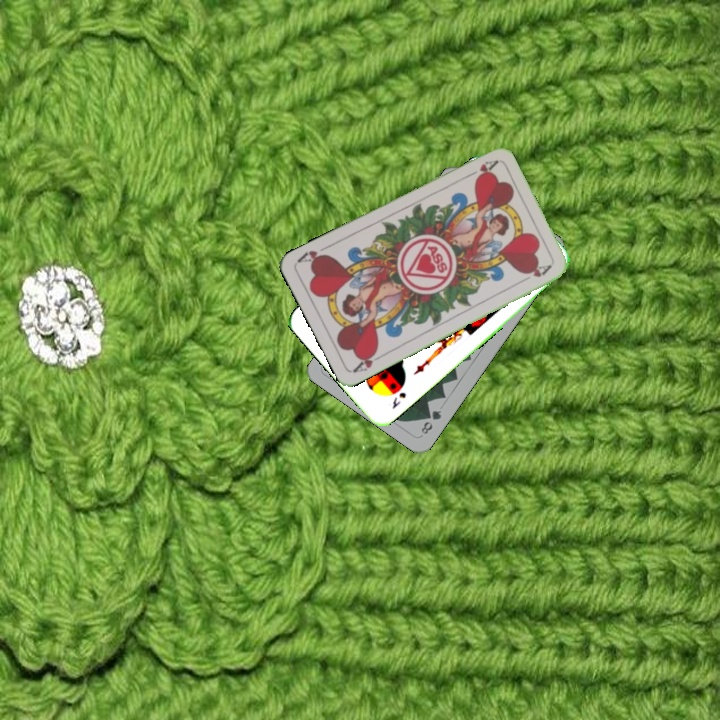G8: (417, 406, 444, 437)
HA: (349, 346, 387, 375), (461, 156, 500, 181)
SK: (388, 388, 409, 412)
